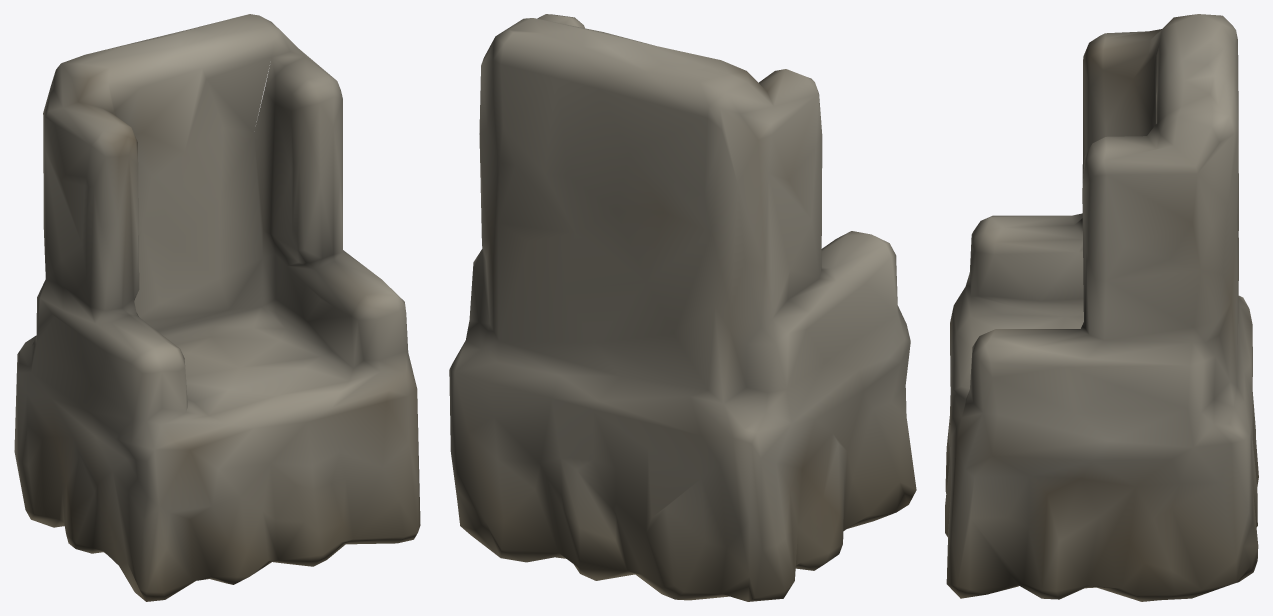
The model's file is sheet_chair.glb.
The picture shows the model from 3 angles, left to right: view 1: azimuth 30°, elevation 25°; view 2: azimuth 150°, elevation 25°; view 3: azimuth 270°, elevation 25°; orthographic projection. The views are drawn at different scales.
Parts seen in each view (by area): view 1: sheet_chair; view 2: sheet_chair; view 3: sheet_chair.
Part boxes in pixels (x1=…): sheet_chair: x1=14, y1=14, x2=420, y2=601; sheet_chair: x1=449, y1=14, x2=916, y2=601; sheet_chair: x1=945, y1=14, x2=1258, y2=601.
Size of the model in its own units: 0.9858 by 1.49 by 0.8892.
